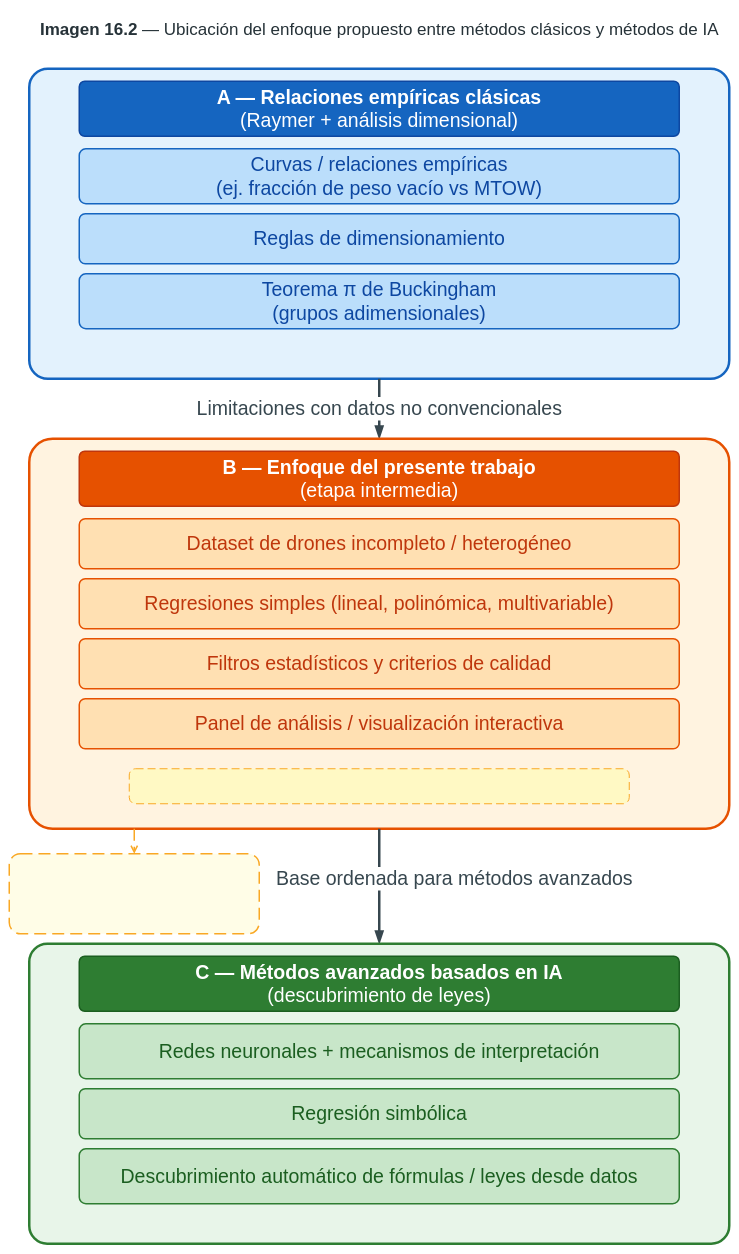
Some shapes in this 739 by 1254 pixel diagram are drawn without their labels. Each missing label, with the centre of its shape:
Paso previo razonable antes de pedir a la IA descubrir leyes: [134,893]
Prioriza transparencia e interpretabilidad: [379,786]
